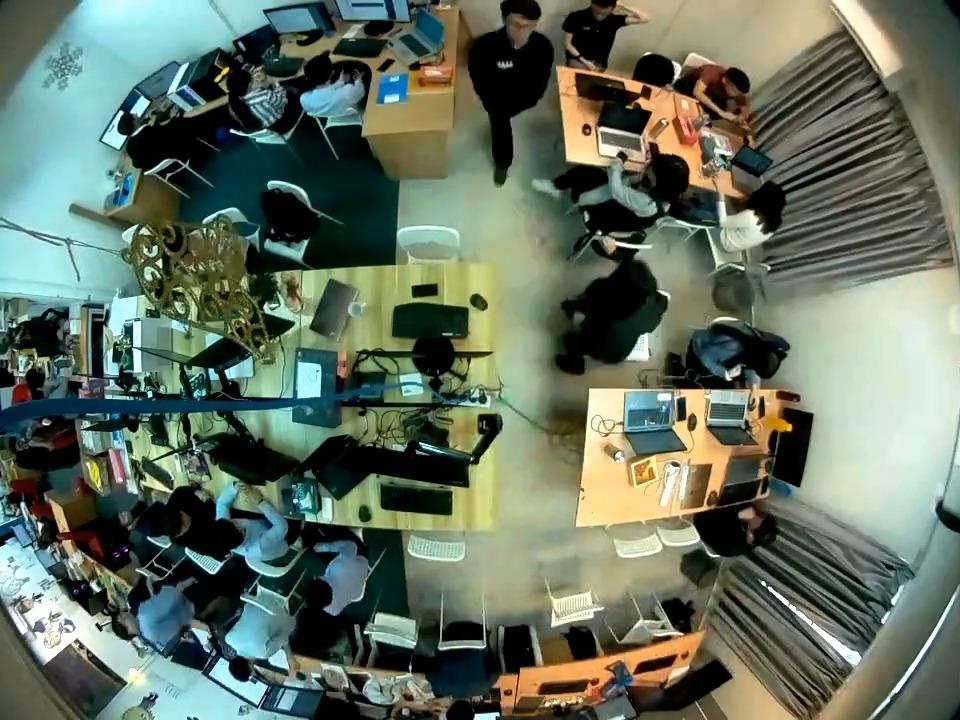name-tag: (496, 60, 515, 70)
